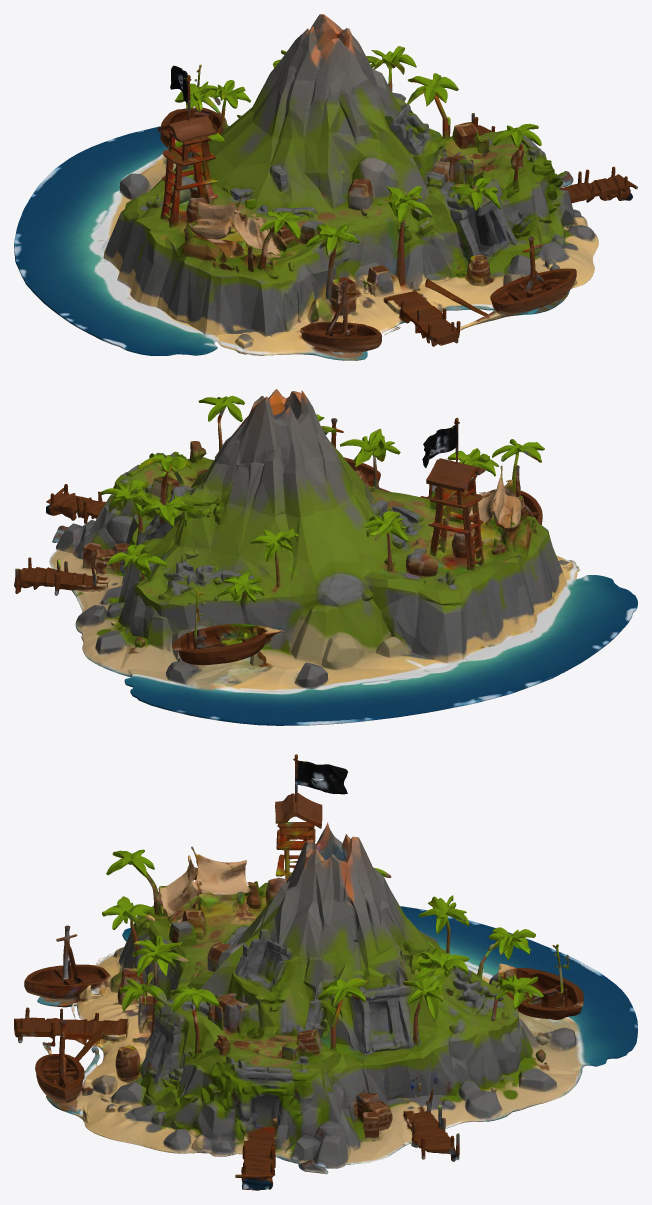
The model's file is island_03.glb.
3 renders of one model, top to bottom at view 1: azimuth 30°, elevation 25°; view 2: azimuth 150°, elevation 25°; view 3: azimuth 270°, elevation 25°, orthographic. The views are drawn at different scales.
Parts seen in each view (by area): view 1: tripo_node_d01ae2a3-a765-40a7-a849-9506ceed16bf; view 2: tripo_node_d01ae2a3-a765-40a7-a849-9506ceed16bf; view 3: tripo_node_d01ae2a3-a765-40a7-a849-9506ceed16bf.
Boxes of the visible parts, box(x1,y1,x2,y2) form: tripo_node_d01ae2a3-a765-40a7-a849-9506ceed16bf: box(14, 14, 637, 360); tripo_node_d01ae2a3-a765-40a7-a849-9506ceed16bf: box(14, 389, 637, 725); tripo_node_d01ae2a3-a765-40a7-a849-9506ceed16bf: box(14, 754, 637, 1190).
Bounding box in the file's own units: 0.9999 × 0.3722 × 0.918.
1 material, 1 textured.
